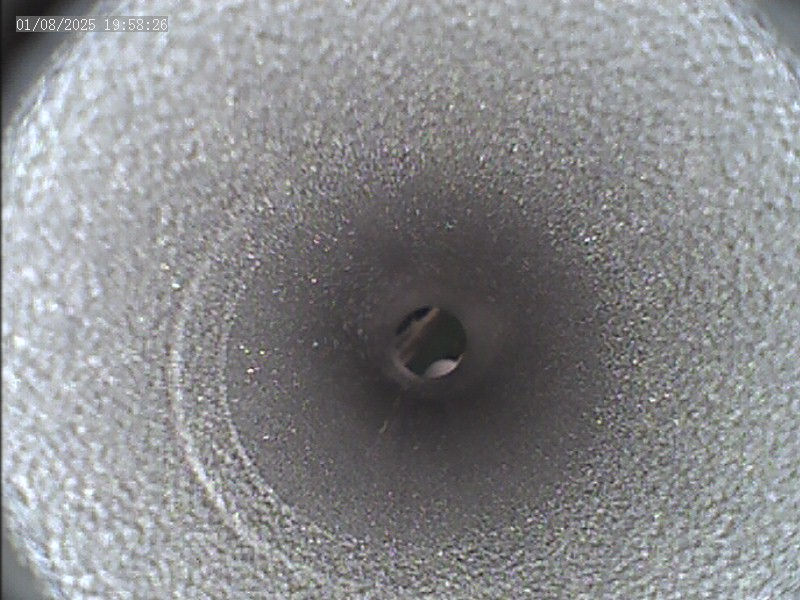defective_area: (166, 304, 470, 574)
